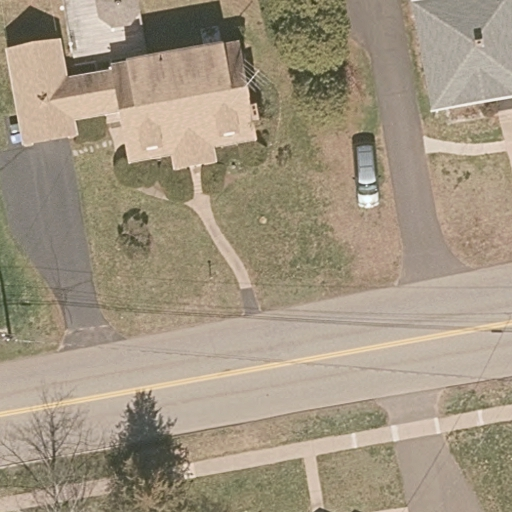DT: (1, 328, 29, 346)
